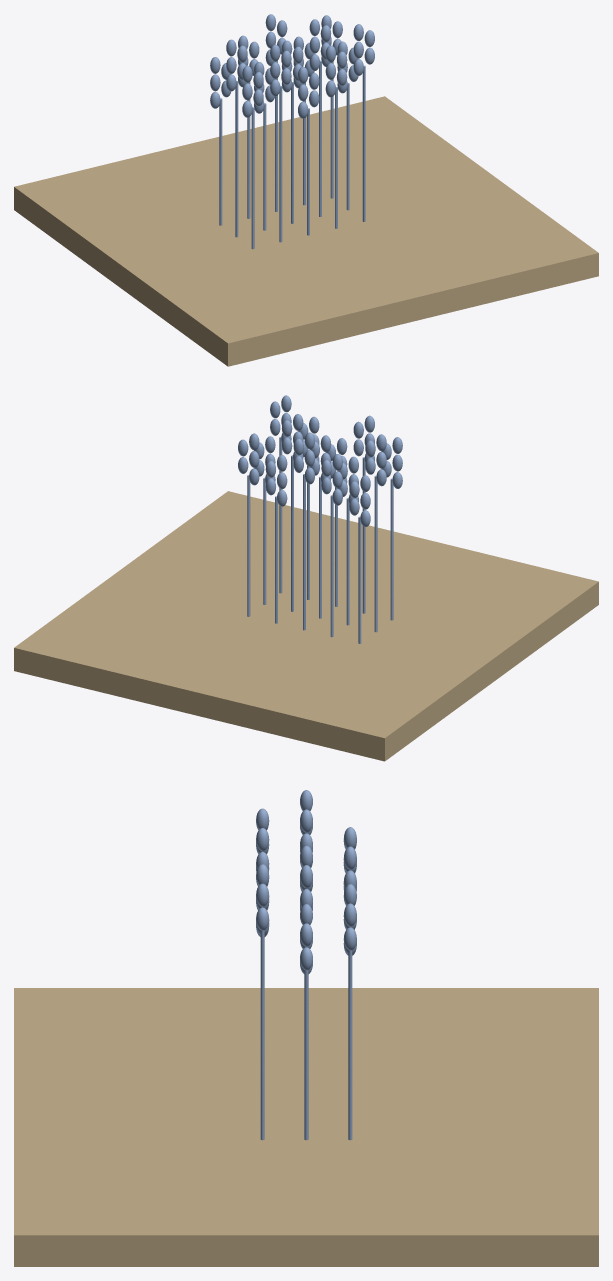
Rendered from campo.glb.
3 views of the same model, one above another, from view 1: azimuth 30°, elevation 25°; view 2: azimuth 150°, elevation 25°; view 3: azimuth 270°, elevation 25° (orthographic). The views are drawn at different scales.
Parts seen in each view (by area): view 1: Base ilustrativa, Haste.005, Haste.011, Haste.014, Haste.010, Haste, Haste.006, Haste.009; view 2: Base ilustrativa, Haste.005, Haste.001, Haste.010, Haste.004, Haste.006, Haste, Haste.009; view 3: Base ilustrativa, Haste.014, Haste.004, Haste.009.
Part boxes in pixels (box(x1,y1,x2,y2)): Base ilustrativa: box(14, 96, 598, 366); Haste.005: box(235, 81, 238, 237); Haste.011: box(279, 86, 282, 242); Haste.014: box(362, 65, 365, 221); Haste.010: box(251, 107, 254, 249); Haste: box(219, 98, 222, 225); Haste.006: box(263, 103, 266, 230); Haste.009: box(346, 83, 349, 210); Base ilustrativa: box(14, 491, 598, 761); Haste.005: box(374, 475, 377, 632); Haste.001: box(330, 495, 333, 637); Haste.010: box(390, 478, 393, 620); Haste.004: box(247, 475, 250, 616); Haste.006: box(346, 498, 349, 625); Haste: box(358, 516, 361, 643); Haste.009: box(263, 477, 266, 604); Base ilustrativa: box(14, 988, 598, 1266); Haste.014: box(260, 930, 264, 1140); Haste.004: box(348, 950, 352, 1140); Haste.009: box(304, 970, 308, 1140).
Size of the model in its own units: 4 by 2.29 by 4.
Materials: 2 (1 with a texture image).
